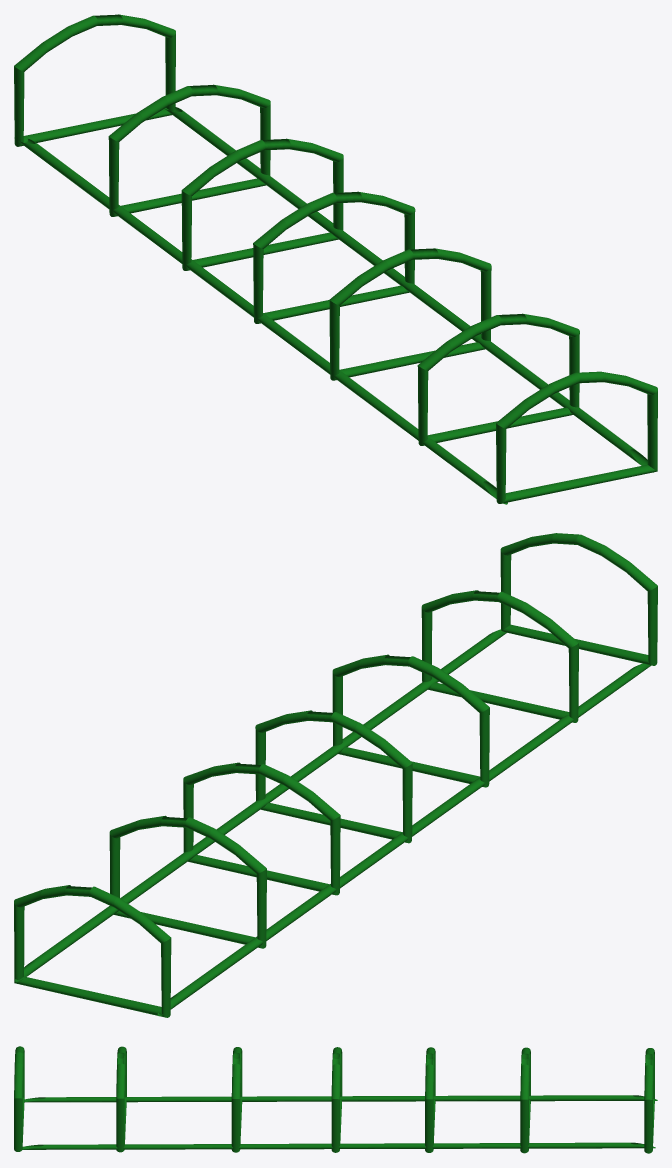
Rendered from bikerack.glb.
3 renders of one model, top to bottom at view 1: azimuth 30°, elevation 25°; view 2: azimuth 150°, elevation 25°; view 3: azimuth 270°, elevation 25°, orthographic. The views are drawn at different scales.
Parts seen in each view (by area): view 1: BikeRack; view 2: BikeRack; view 3: BikeRack.
Part boxes in pixels (x1,y1,x2,y2): BikeRack: (14, 14, 657, 504); BikeRack: (14, 533, 657, 1017); BikeRack: (14, 1046, 657, 1153).
Bounding box in the file's own units: 0.7799 × 0.5307 × 4.13.
